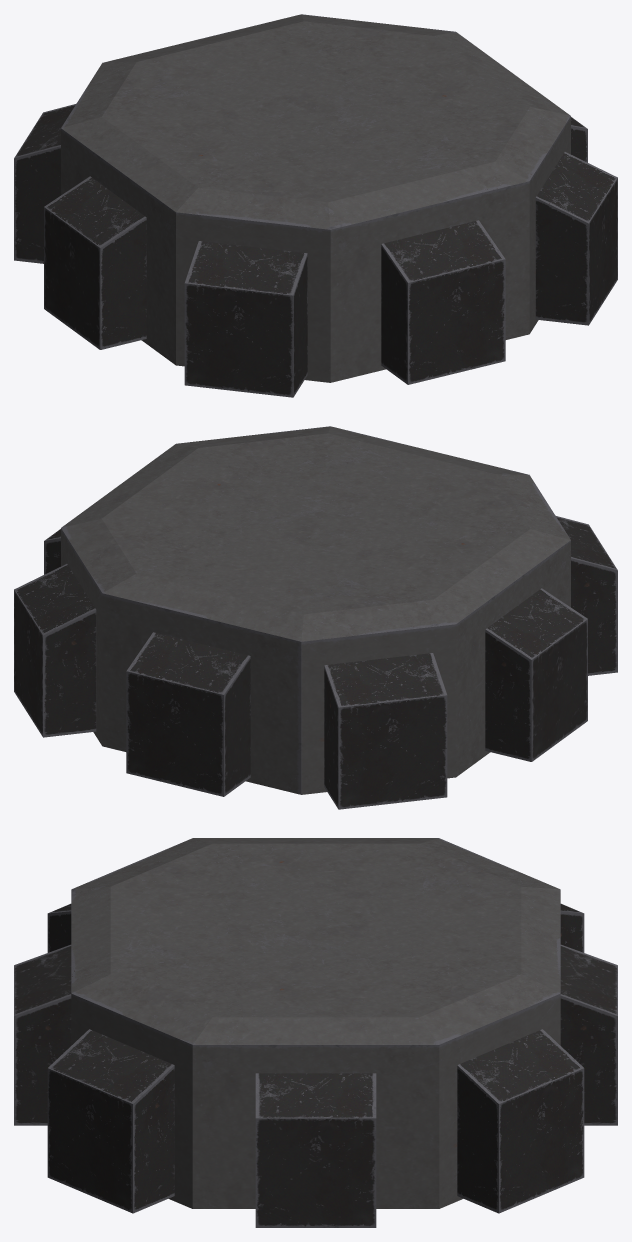
File: barbette_l_1.fbx
3 views of the same model, one above another, from view 1: azimuth 30°, elevation 25°; view 2: azimuth 150°, elevation 25°; view 3: azimuth 270°, elevation 25° (orthographic). The views are drawn at different scales.
Parts seen in each view (by area): view 1: barbette_l_1; view 2: barbette_l_1; view 3: barbette_l_1.
Boxes of the visible parts, x1,y1,x2,y2 form: barbette_l_1: [14, 14, 617, 397]; barbette_l_1: [14, 426, 617, 809]; barbette_l_1: [14, 838, 617, 1227].
Size of the model in its own units: 10 by 3.2 by 10.
